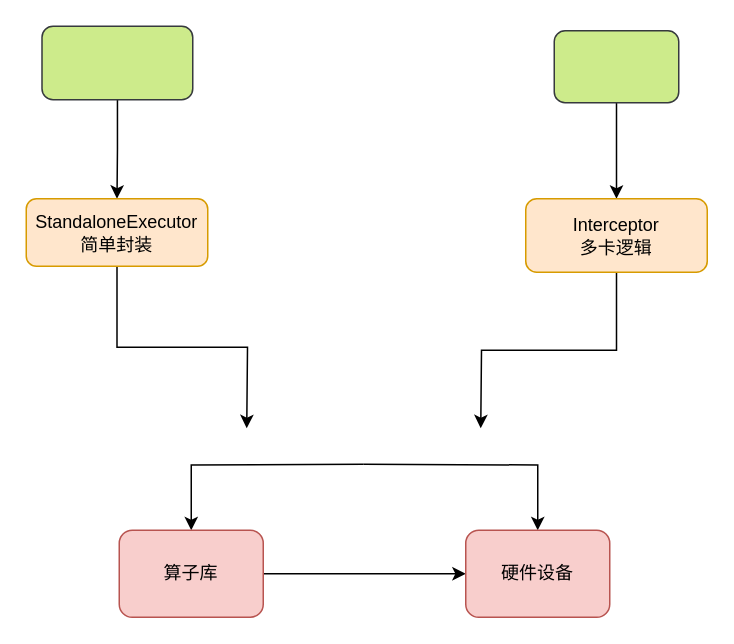
Some shapes in this 734 by 644 pixel diagram are drawn without their labels. The shapes that lost their labels are listed below. From the top down, each one's centre as x and y in pixels, then its label:
At point 116,62: "UserProgram".
At point 616,66: "分布式训练 launch".
